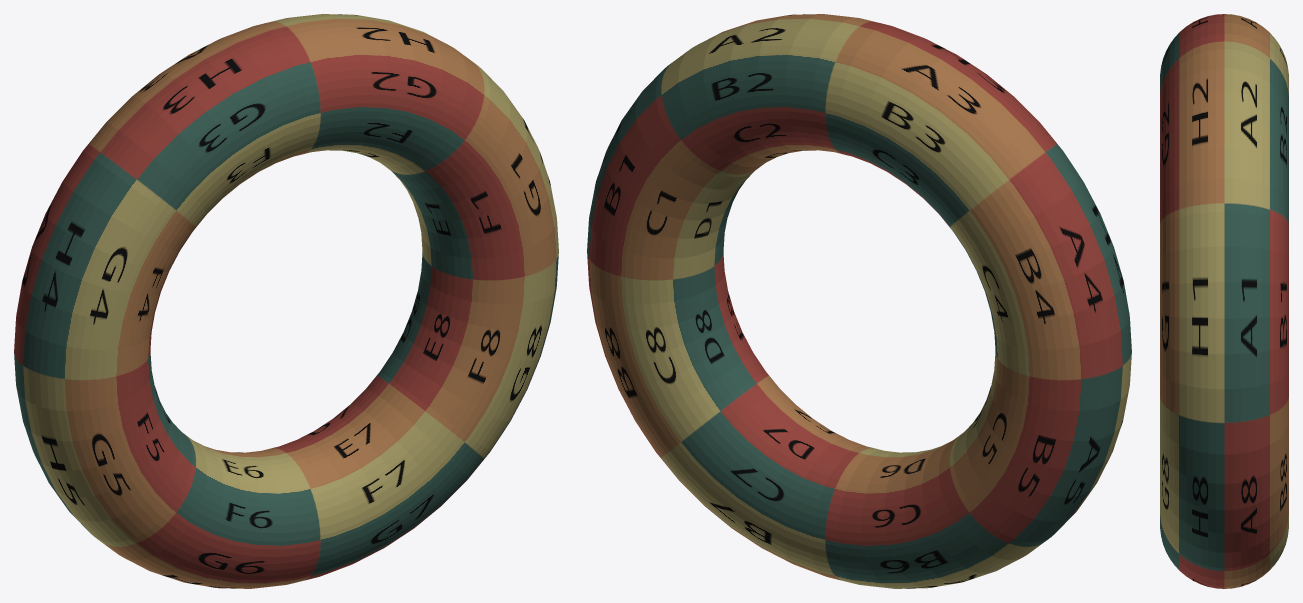
The model's file is texture_torus_R23_r20.glb.
The picture shows the model from 3 angles, left to right: view 1: azimuth 30°, elevation 25°; view 2: azimuth 150°, elevation 25°; view 3: azimuth 270°, elevation 25°; orthographic projection. The views are drawn at different scales.
Visible parts, largest first — view 1: world; view 2: world; view 3: world.
Part boxes in pixels (x1=…): world: x1=14, y1=14, x2=558, y2=588; world: x1=587, y1=14, x2=1131, y2=588; world: x1=1160, y1=14, x2=1288, y2=588.
Size of the model in its own units: 32.67 by 32.6 by 7.32.
Materials: 1 (1 with a texture image).
